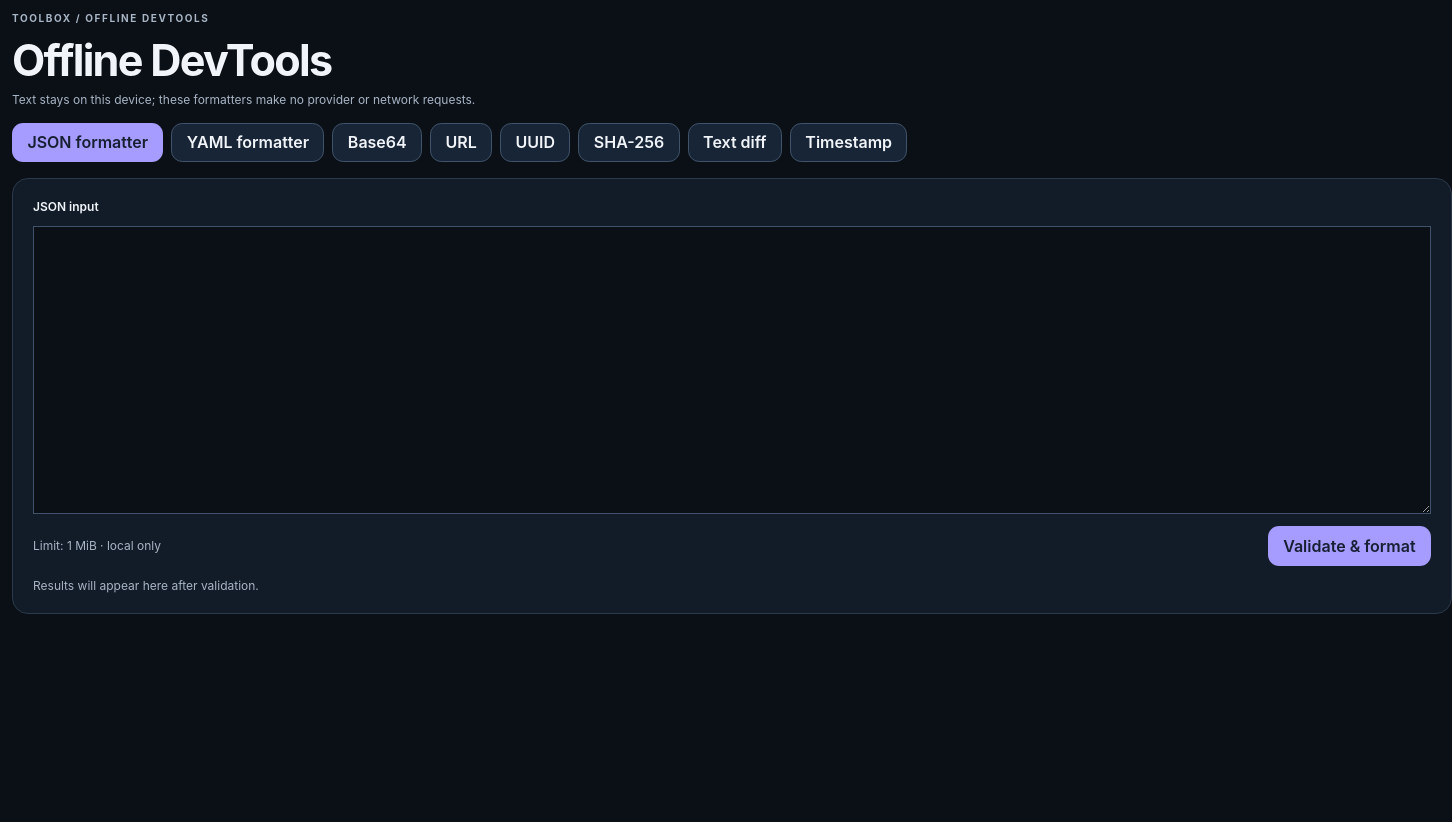
Test case: offline DevTools page › keeps binary Base64 decoding distinct from UTF-8 text
Click the button "Base64": x=377, y=142 [332,123,422,162]
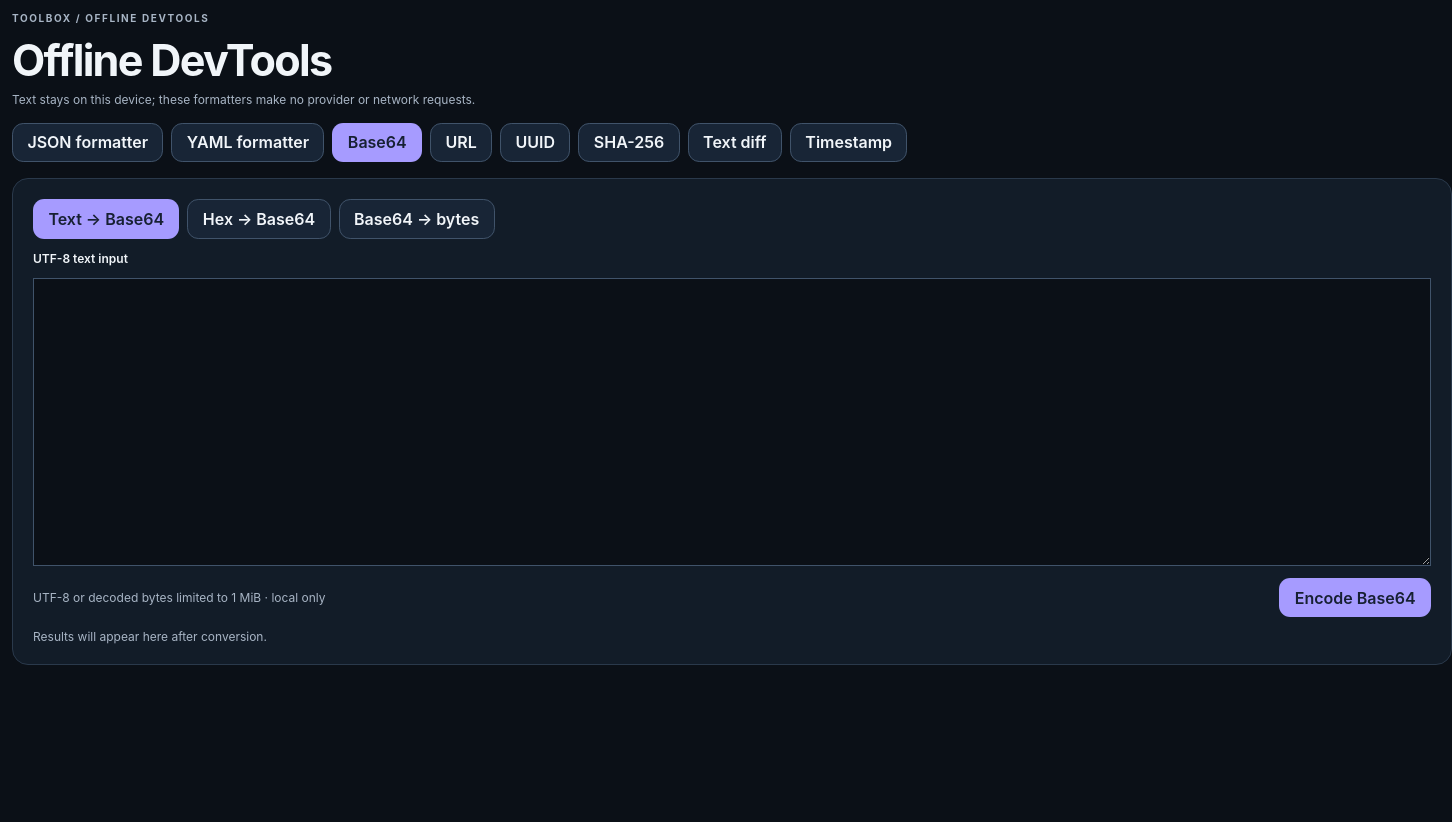
Click the button "Base64 → bytes": x=417, y=219 [339,199,495,239]
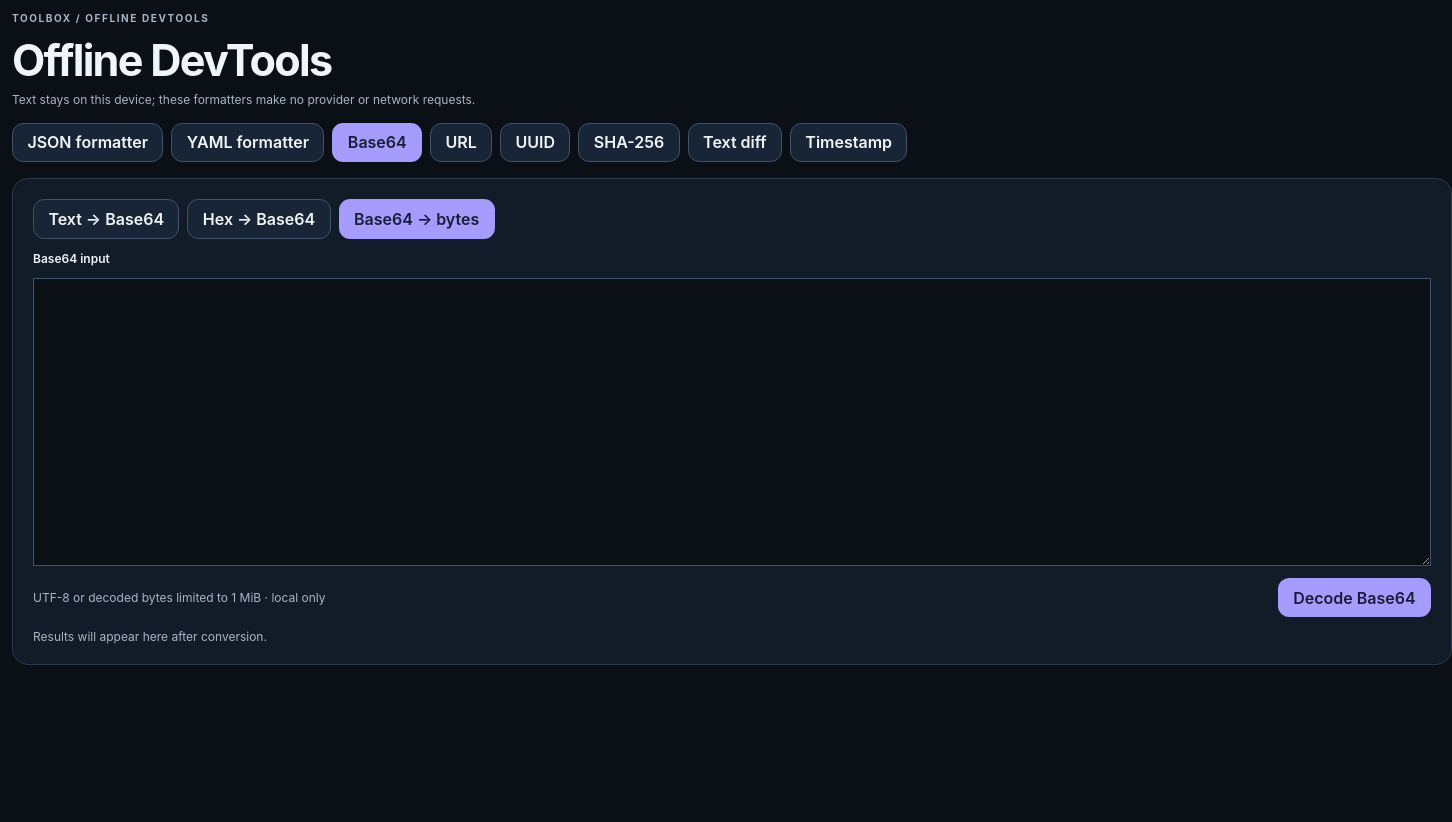
In the text box labelled "Base64 input": x=732, y=422 [33,278,1431,566], type "AH+A/w=="
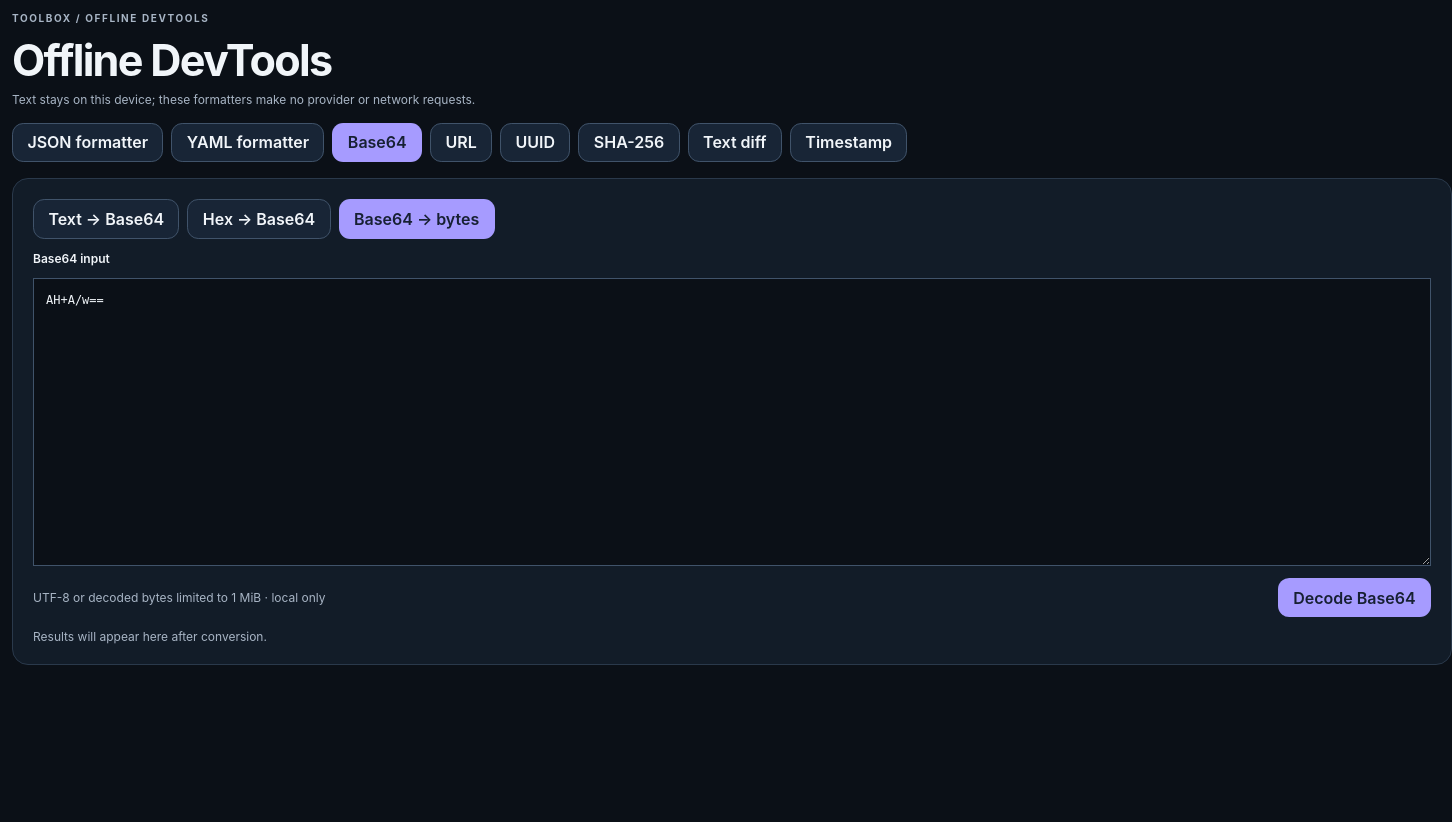
Click the button "Decode Base64": x=1354, y=598 [1278,578,1431,617]
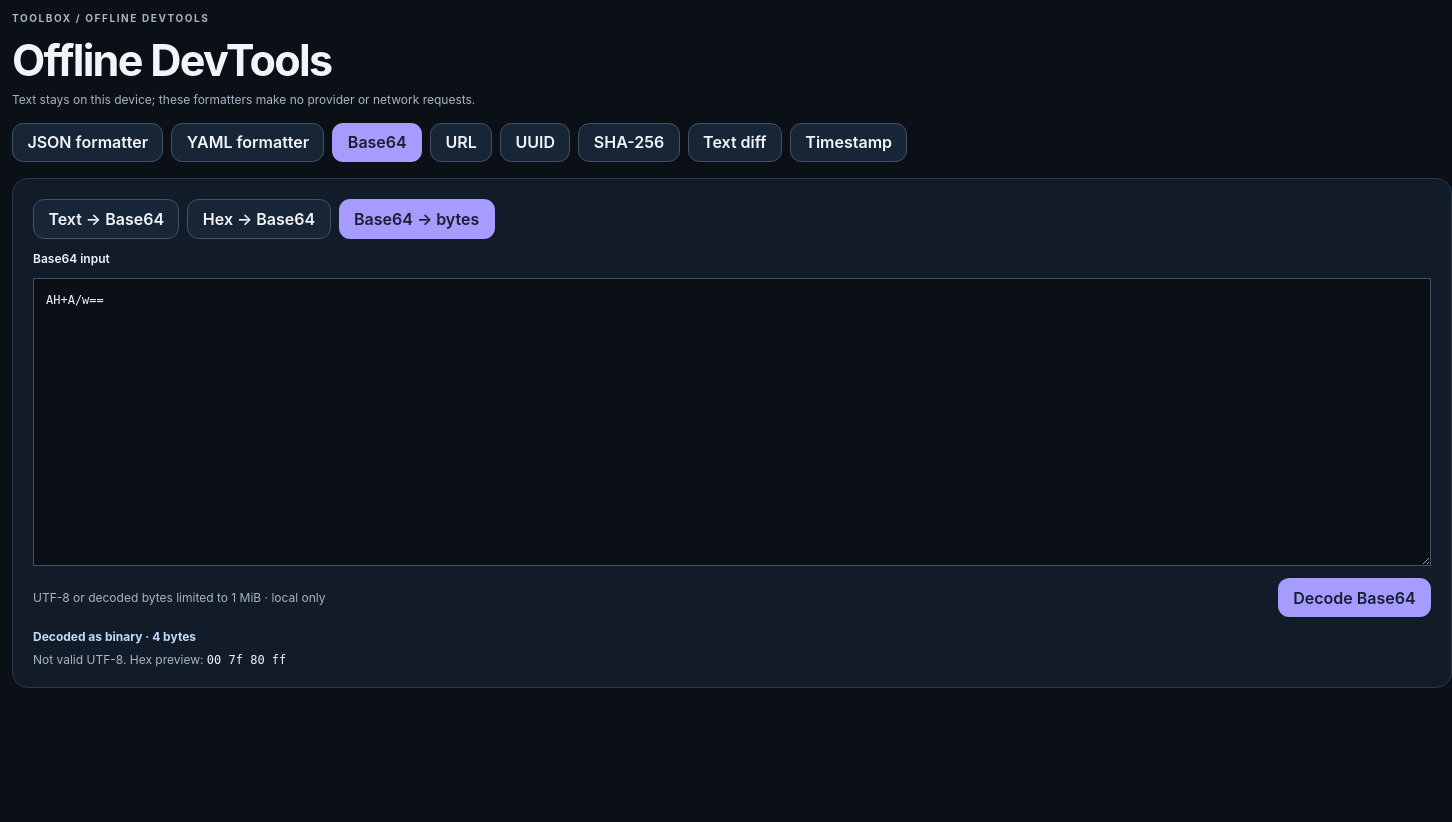
Expected: the message shows "Decoded as binary", [33,629,152,644]
Expected: the text "00 7f 80 ff" is shown, [207,653,286,667]
